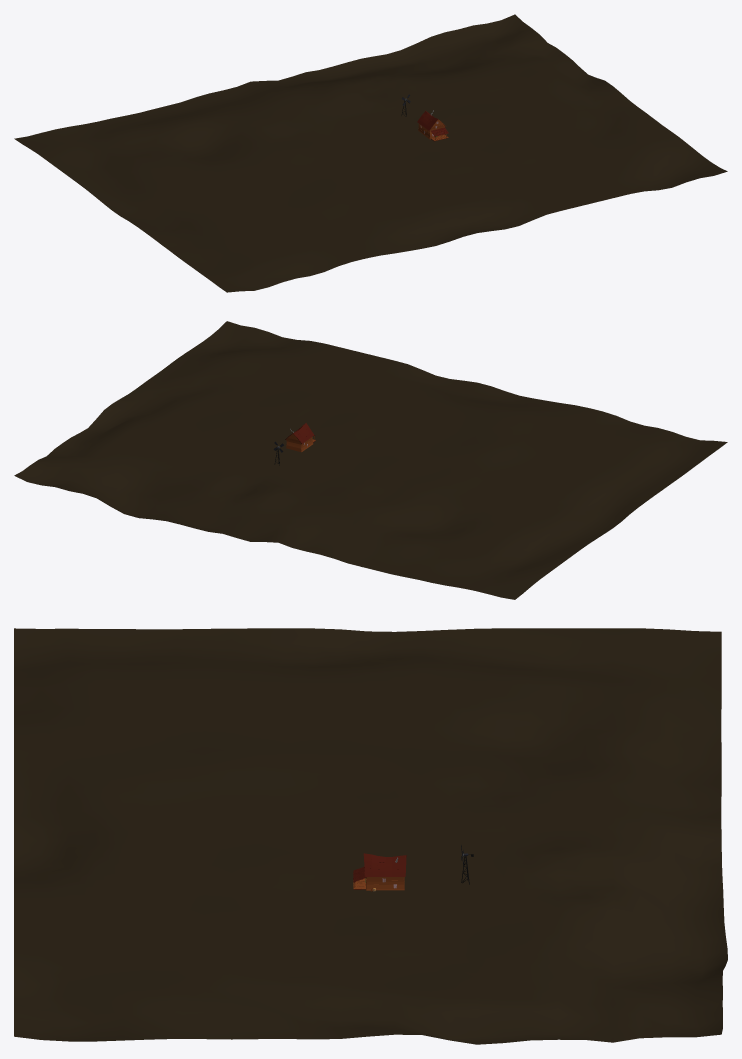
File: house.obj
3 renders of one model, top to bottom at view 1: azimuth 30°, elevation 25°; view 2: azimuth 150°, elevation 25°; view 3: azimuth 270°, elevation 25°, orthographic. The views are drawn at different scales.
Visible parts, largest first — view 1: Plane; view 2: Plane; view 3: Plane, house_roof.
Part boxes in pixels (x1,y1,x2,y2): Plane: [14, 14, 727, 292]; Plane: [14, 321, 727, 599]; Plane: [14, 628, 727, 1044]; house_roof: [363, 853, 406, 876].
Bounding box in the file's own units: 544 × 39.6 × 404.
